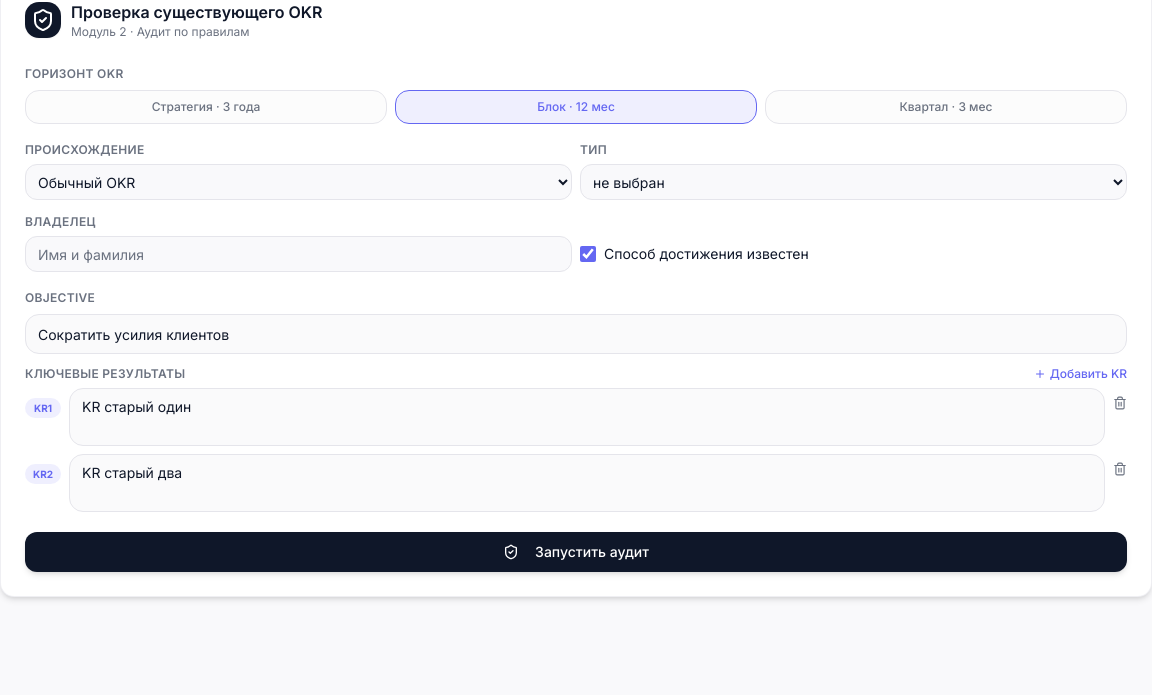
F-03: complete an edit session before re-auditing › does not automatically re-audit when accepting remaining suggestions
Click the button "Запустить аудит" at {"x": 576, "y": 552}, box [25, 532, 1127, 572]
(page scrolled)
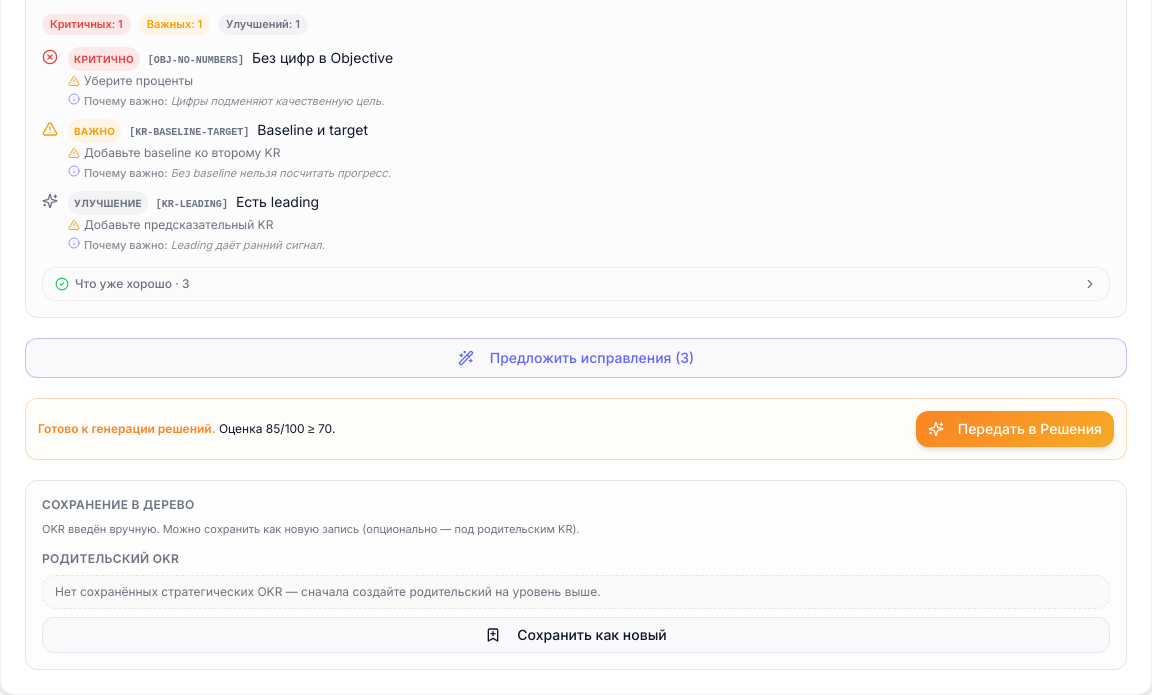
Expected: the button with test id "request-fix-button" is shown
Click the button with test id "request-fix-button" at {"x": 576, "y": 358}, box [25, 338, 1127, 378]
(page scrolled)
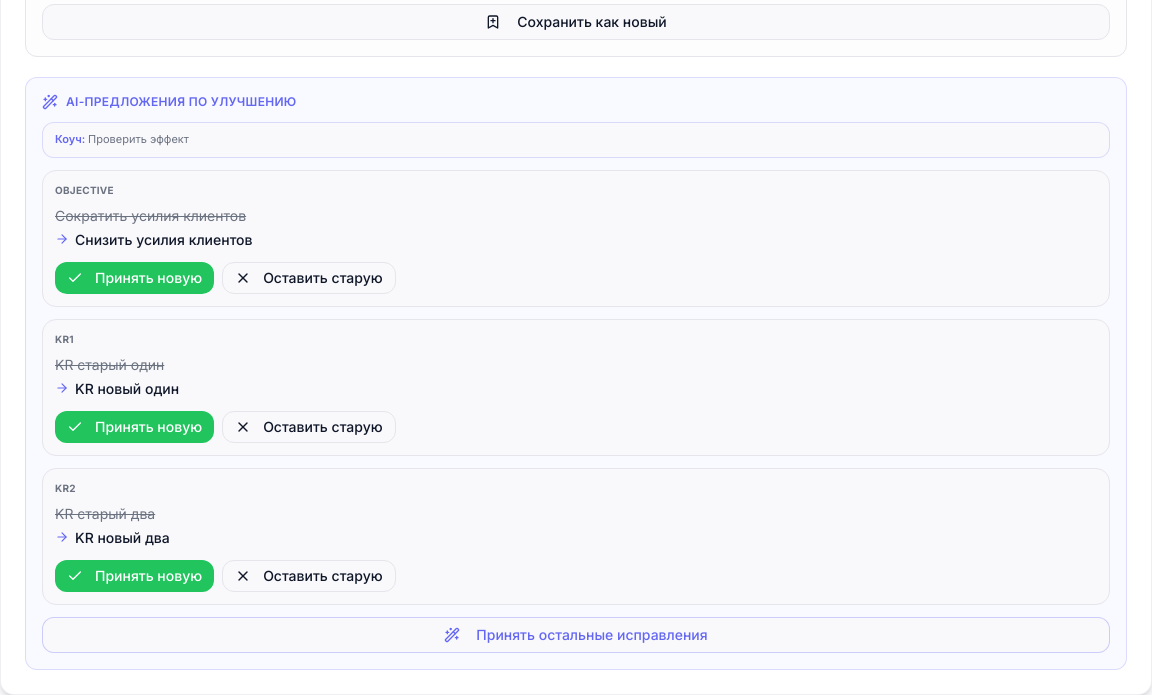
Expected: the text "KR новый два" is shown, [75, 528, 170, 548]
Click the button "Принять остальные исправления" at {"x": 576, "y": 635}, box [42, 617, 1110, 653]
(page scrolled)
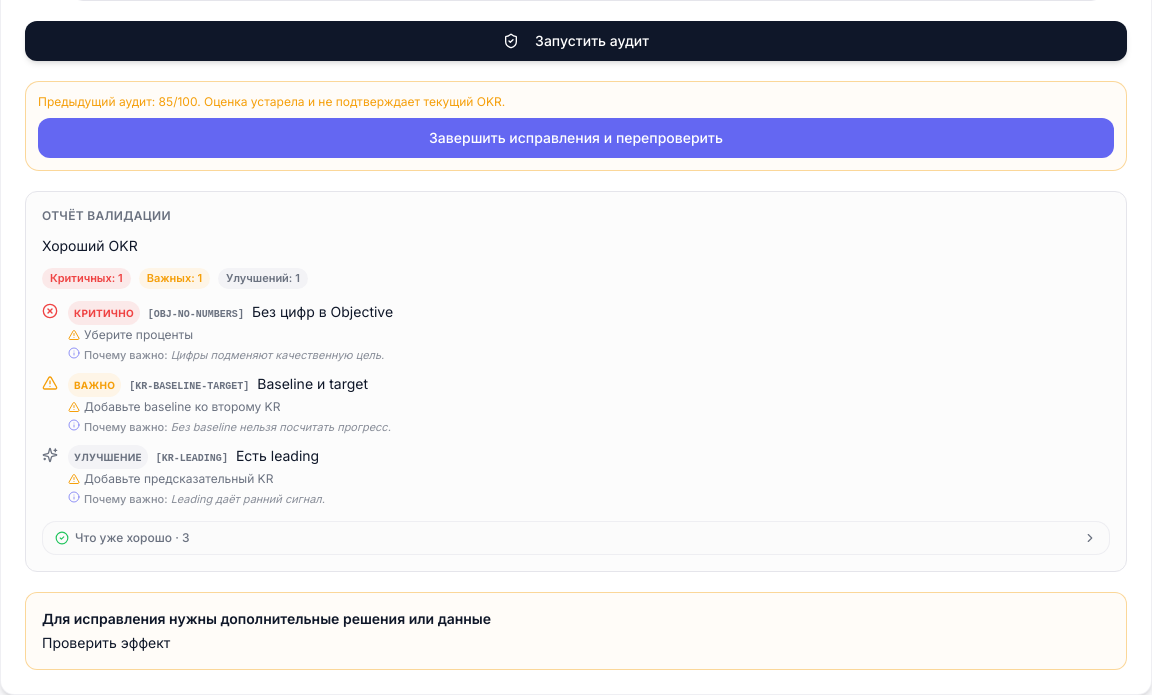
Expected: the button "Передать в Решения" is not shown
Expected: the text with test id "historical-audit-warning" is shown, [38, 94, 505, 109]
Expected: the button with test id "save-as-new-button" is gone
